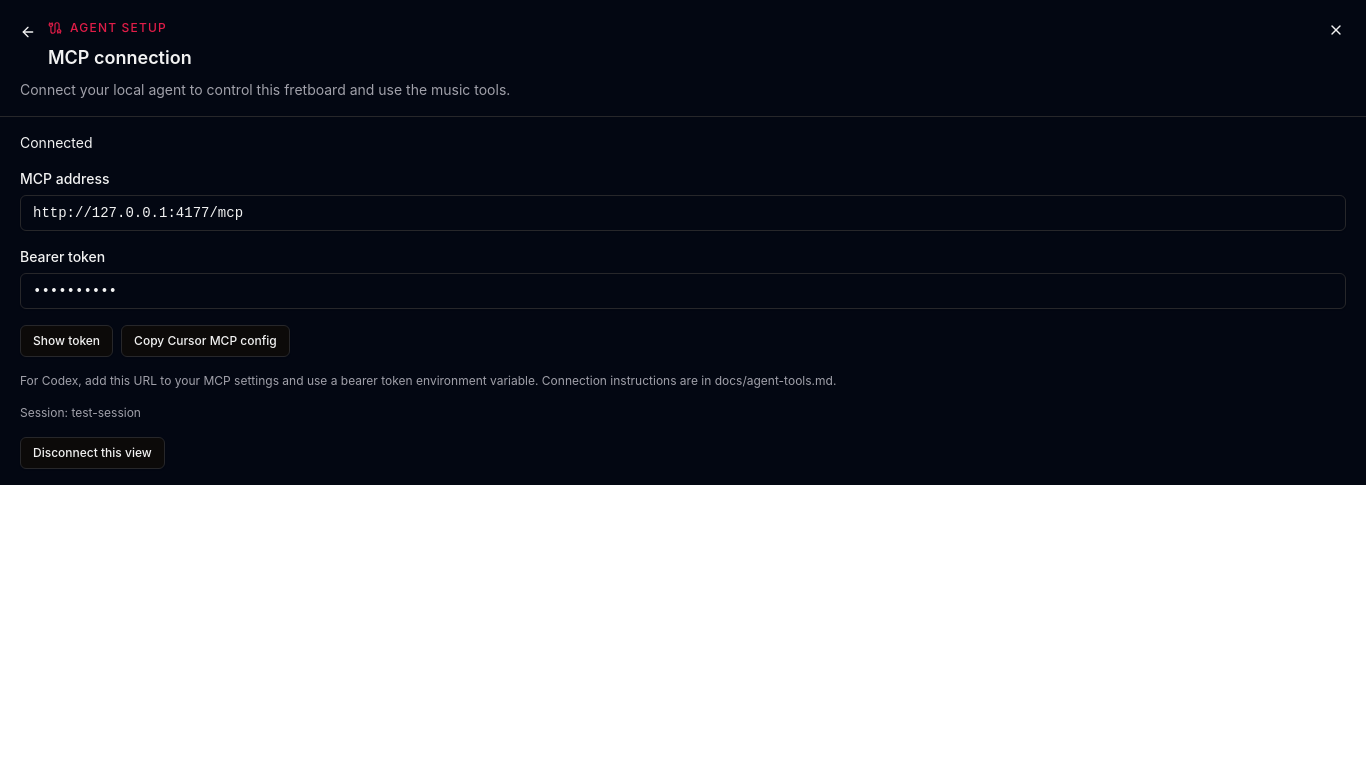
Test: desktop config copy uses the trusted API and keeps connection status (failure=true)
The image size is (1366, 768).
Expected: the heading "MCP connection" is shown, left=48, top=44, right=192, bottom=72
Expected: the text "Connected" is shown, left=20, top=134, right=92, bottom=151
Click the button "Show token". click: click(67, 341)
box: left=20, top=325, right=113, bottom=357
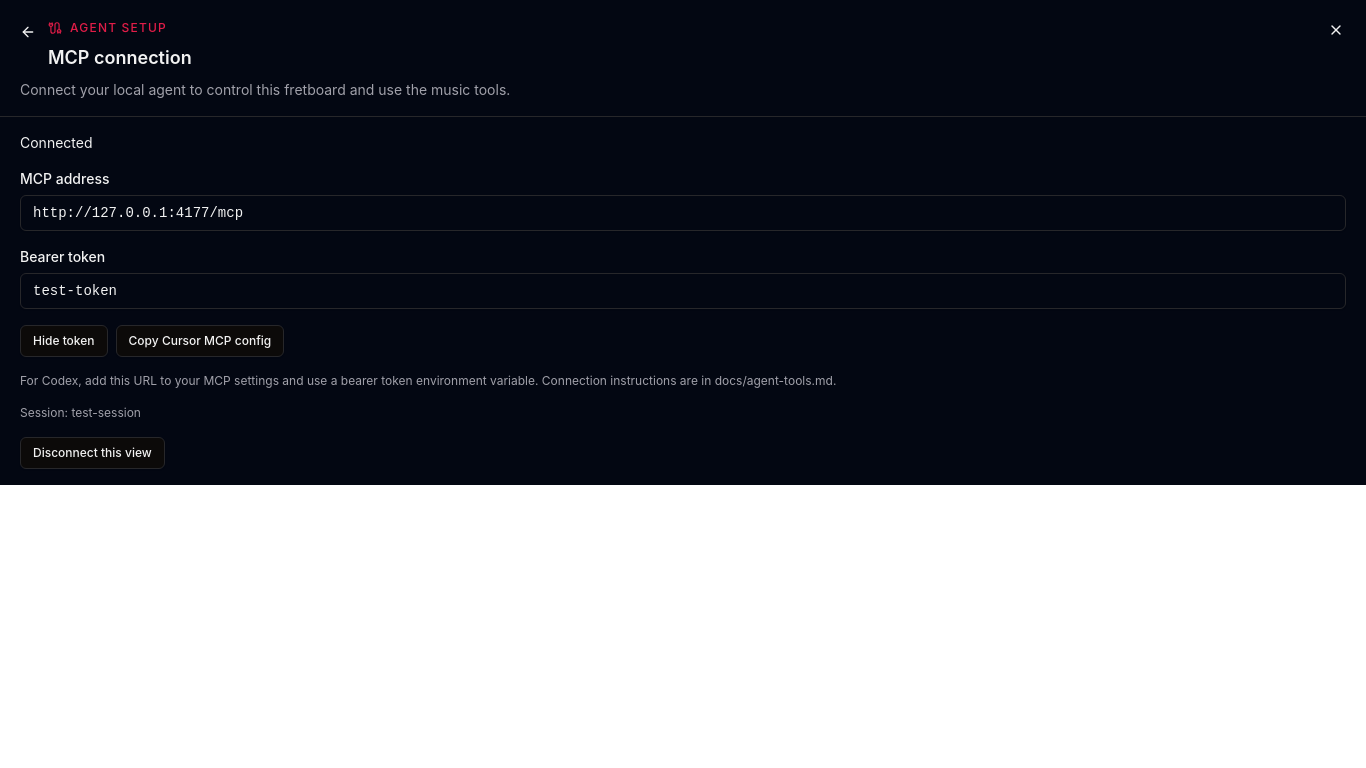
Now the field labelled "Bearer token" shows its text, box left=20, top=273, right=1346, bottom=309
Click the button "Copy Cursor MCP config". click: click(200, 341)
box: left=116, top=325, right=284, bottom=357
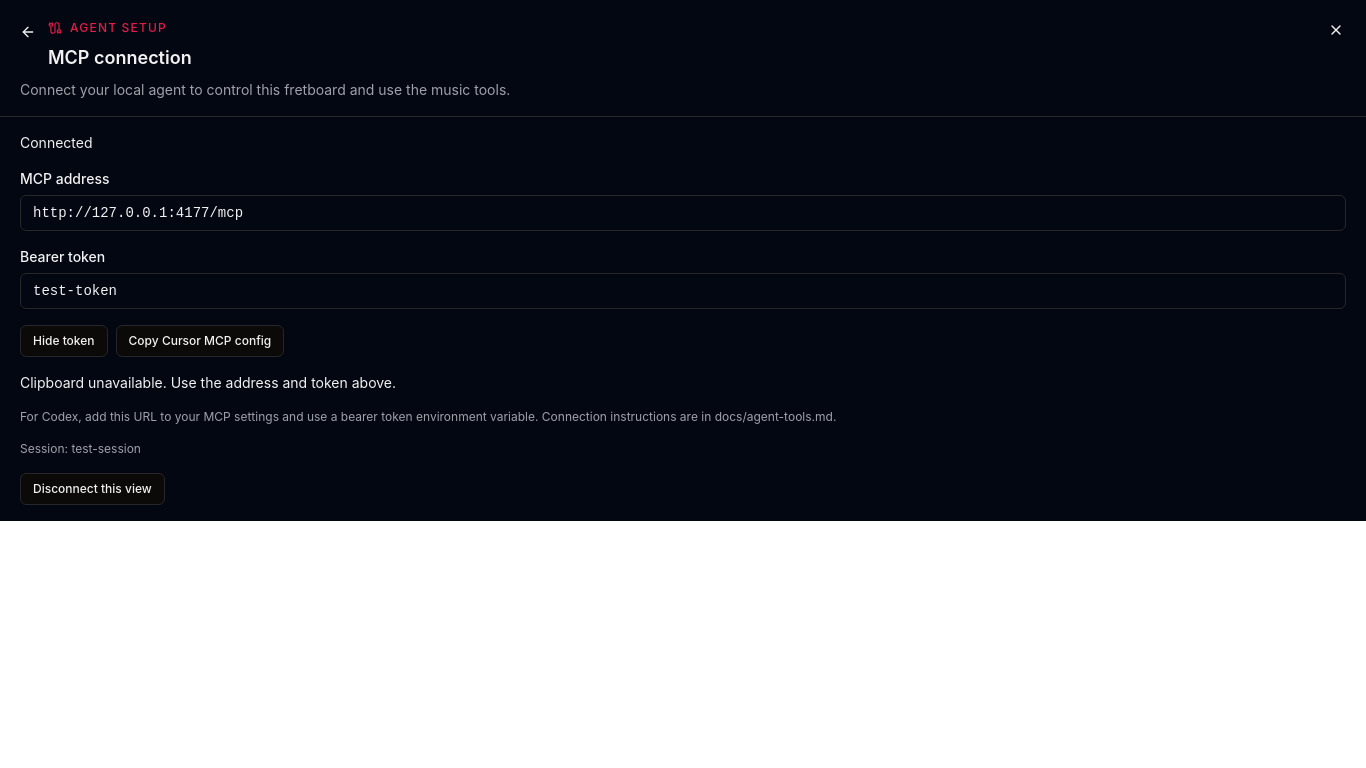
Expected: the text "Connected" is shown, left=20, top=134, right=92, bottom=151
Now the message "Clipboard unavailable. Use the address and token above." is shown, box left=20, top=374, right=396, bottom=391
Click the button "Disconnect this view". click: click(92, 489)
box: left=20, top=473, right=165, bottom=505
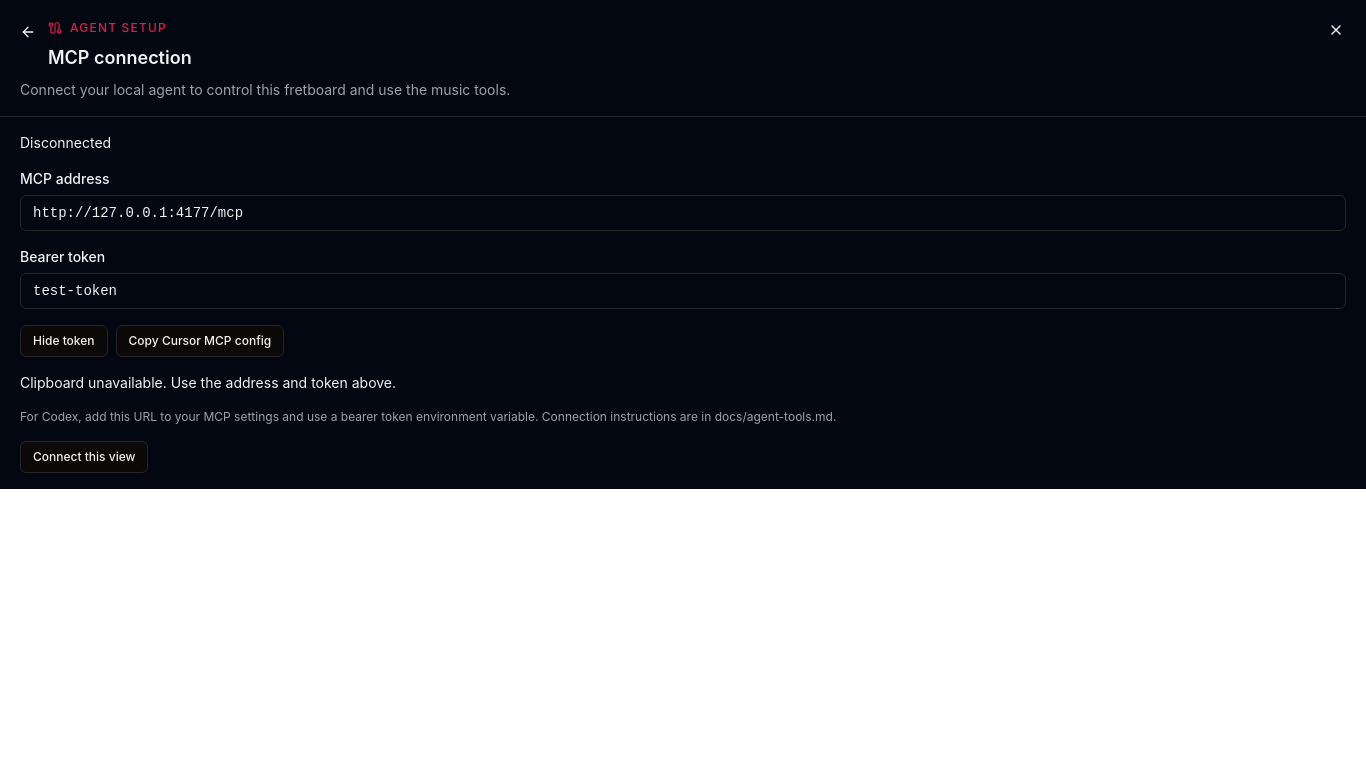
Expected: the button "Connect this view" is shown, left=20, top=441, right=148, bottom=473
Now the text "Disconnected" is shown, box left=20, top=134, right=111, bottom=151
